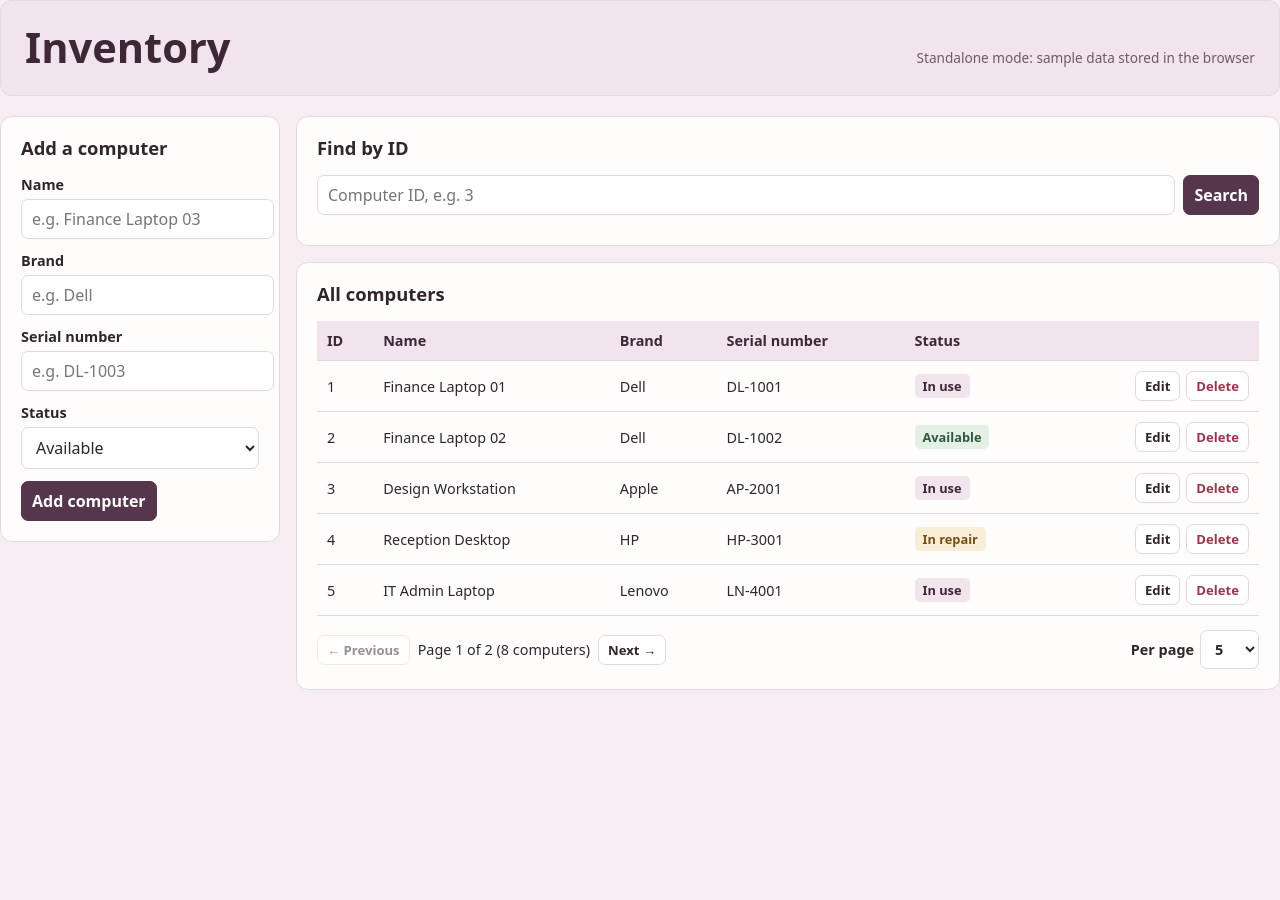
Test case: Inventory page (standalone mode) › cancels editing
Click the button with aria-label "Edit Reception Desktop" at point(1158, 539), box [1135,524,1180,554]
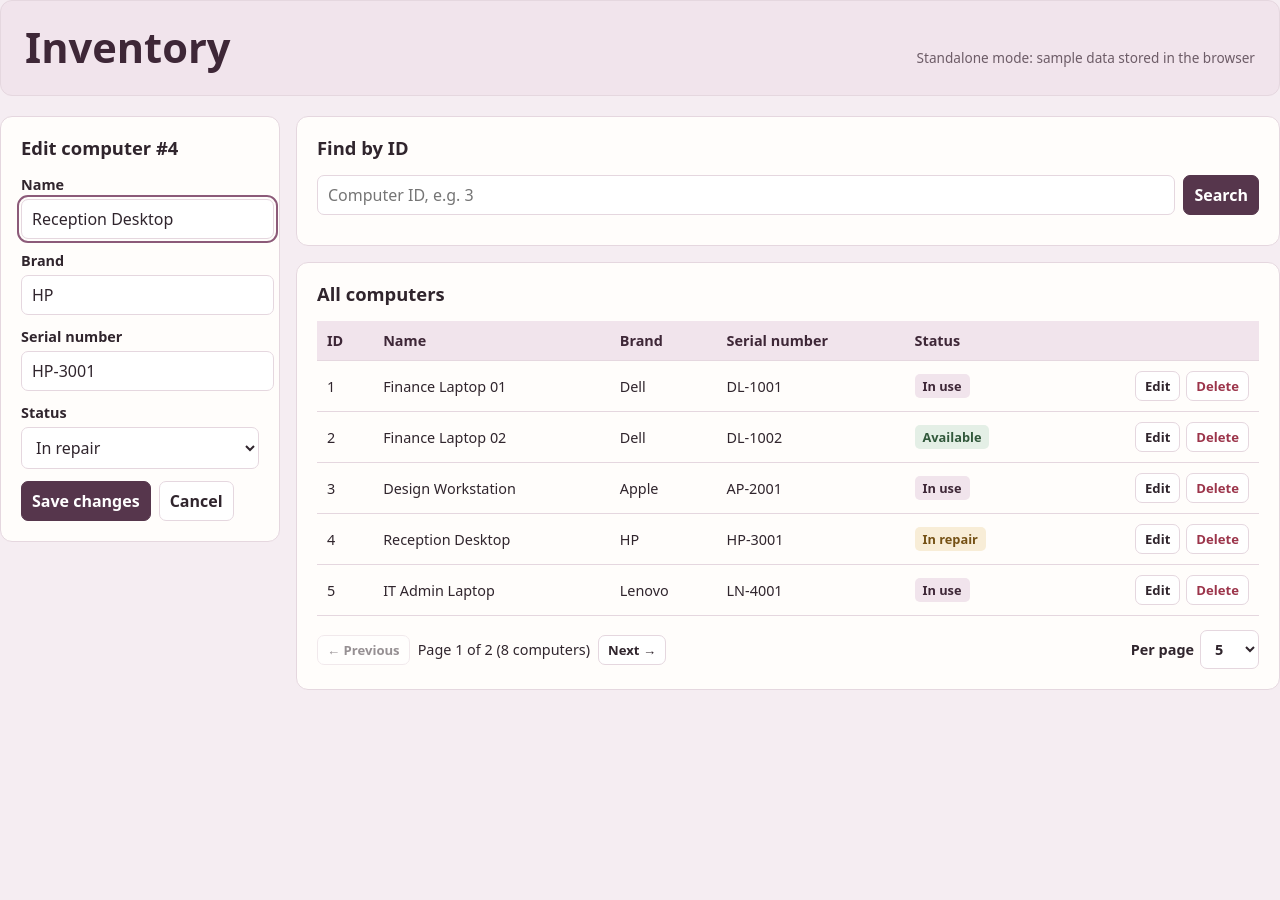
Click the button "Cancel" at point(196, 501), box [159,481,234,521]
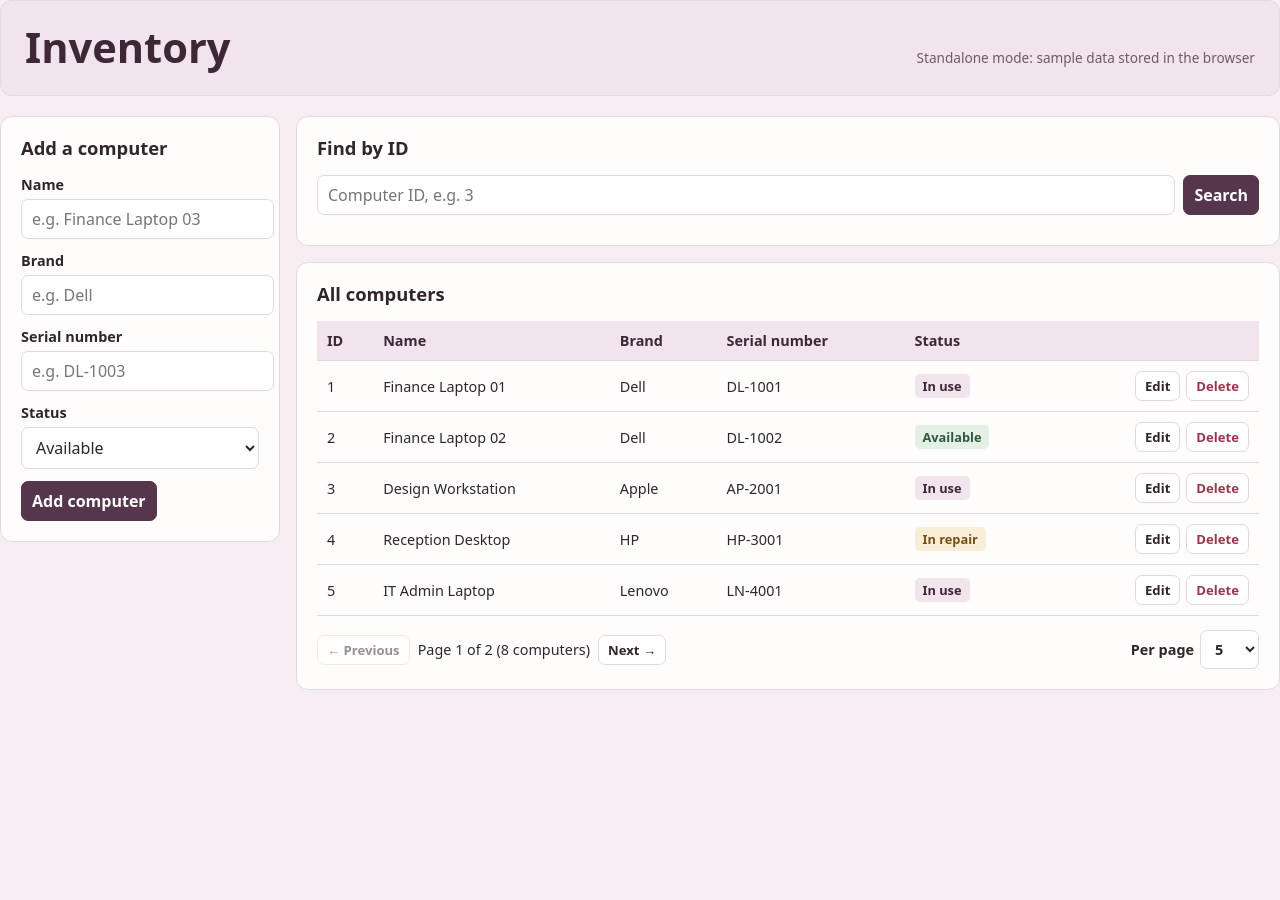
Check: the heading "Add a computer" is shown, box [21,135,168,160]
